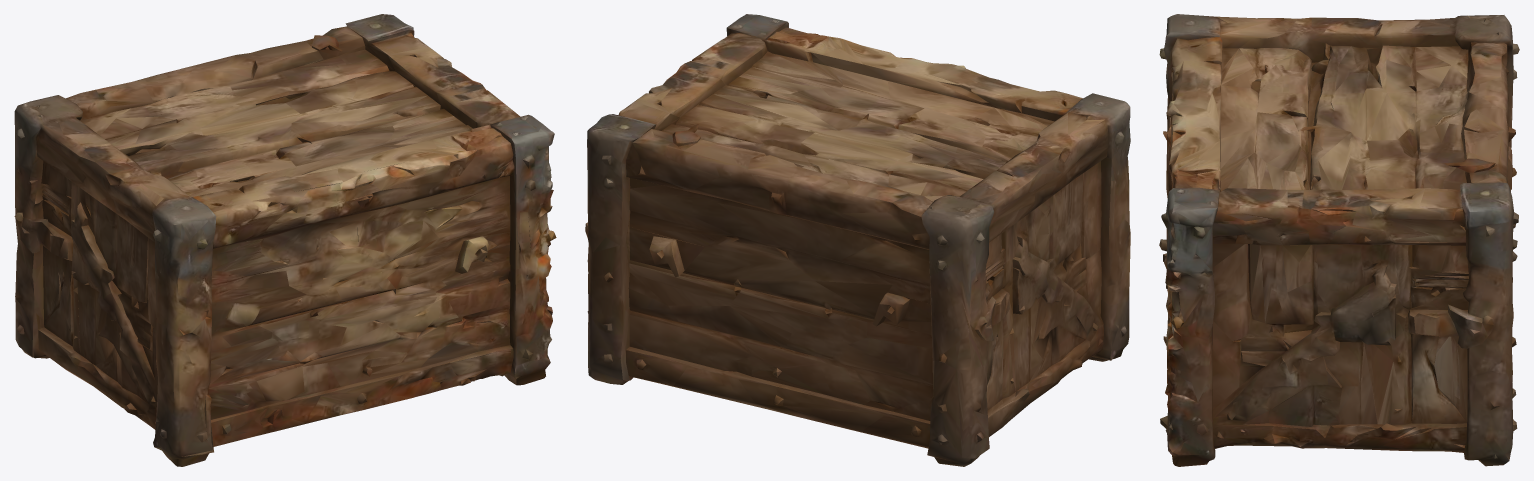
Rendered from crate_idle.glb.
The picture shows the model from 3 angles, left to right: view 1: azimuth 30°, elevation 25°; view 2: azimuth 150°, elevation 25°; view 3: azimuth 270°, elevation 25°; orthographic projection. The views are drawn at different scales.
Visible parts, largest first — view 1: tripo_node_2e82c4c5-dea4-48bb-a3e9-17d83202bf44; view 2: tripo_node_2e82c4c5-dea4-48bb-a3e9-17d83202bf44; view 3: tripo_node_2e82c4c5-dea4-48bb-a3e9-17d83202bf44.
Part boxes in pixels (x1,y1,x2,y2): tripo_node_2e82c4c5-dea4-48bb-a3e9-17d83202bf44: [14, 14, 556, 466]; tripo_node_2e82c4c5-dea4-48bb-a3e9-17d83202bf44: [585, 14, 1130, 466]; tripo_node_2e82c4c5-dea4-48bb-a3e9-17d83202bf44: [1159, 14, 1519, 466].
Bounding box in the file's own units: 0.8186 × 0.4984 × 0.6121.
Materials: 1 (1 with a texture image).
